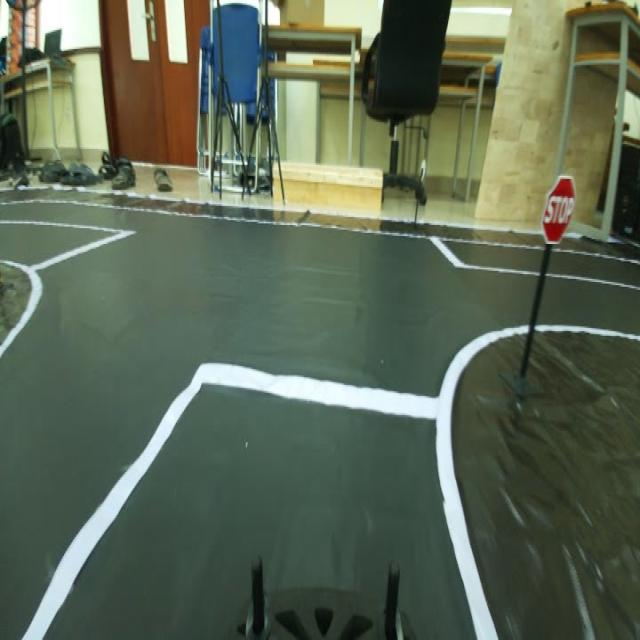stop: (539, 164, 577, 253)
